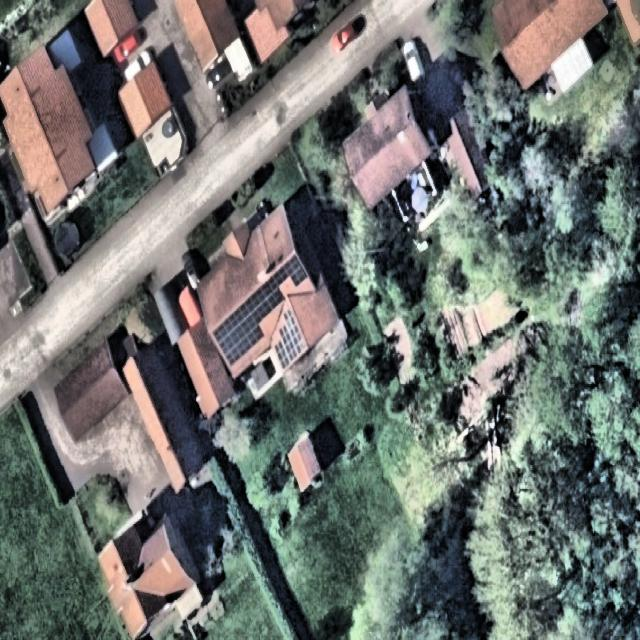roof_pv: (208, 292, 255, 368), (274, 309, 307, 373), (278, 254, 310, 298), (255, 271, 278, 320), (256, 322, 266, 348)
